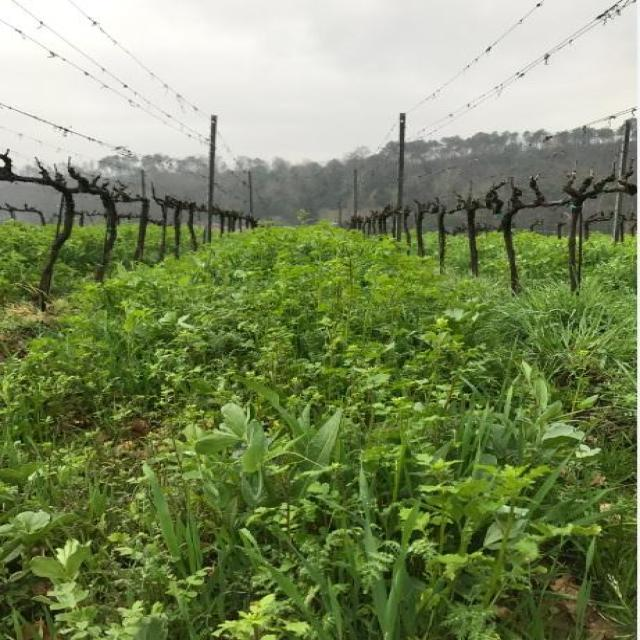row: (0, 226, 640, 640)
